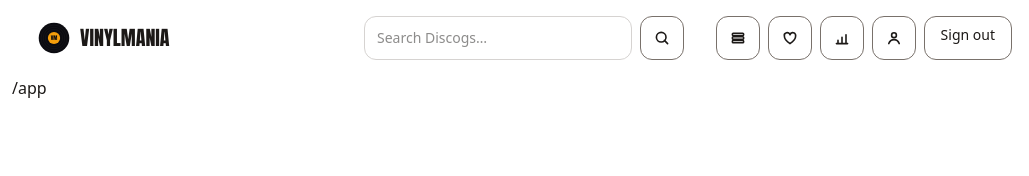
Scenario: Header search — suggestions (069 US2) › opens the release detail and collapses the search when a release suggestion is chosen (FR-012, SC-002)
Click the button named "search": (662, 38) x1=640 y1=16 x2=684 y2=60
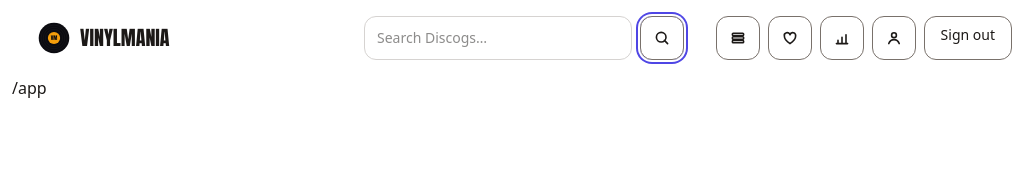
In the dropdown labelled "Search Discogs…": (498, 38) x1=364 y1=16 x2=632 y2=60, type "miles"
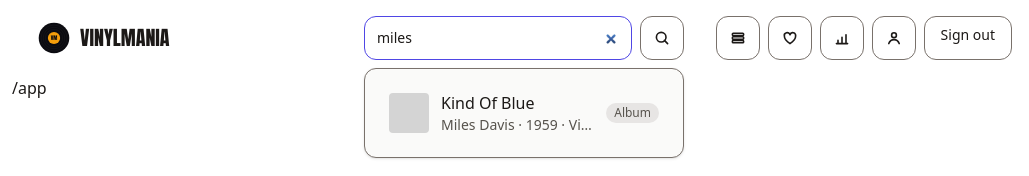
Click the text "Kind Of Blue": (488, 103) x1=441 y1=92 x2=534 y2=114
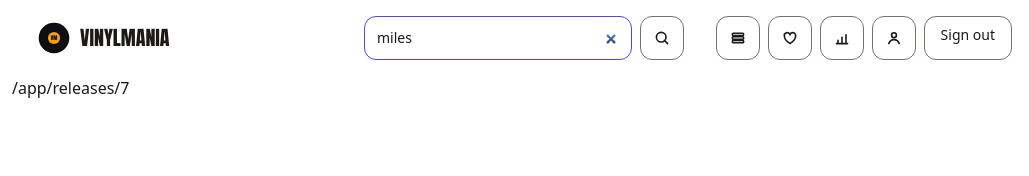
Expected: the text with test id "location" reads "/app/releases/7", x1=12 y1=77 x2=130 y2=99
